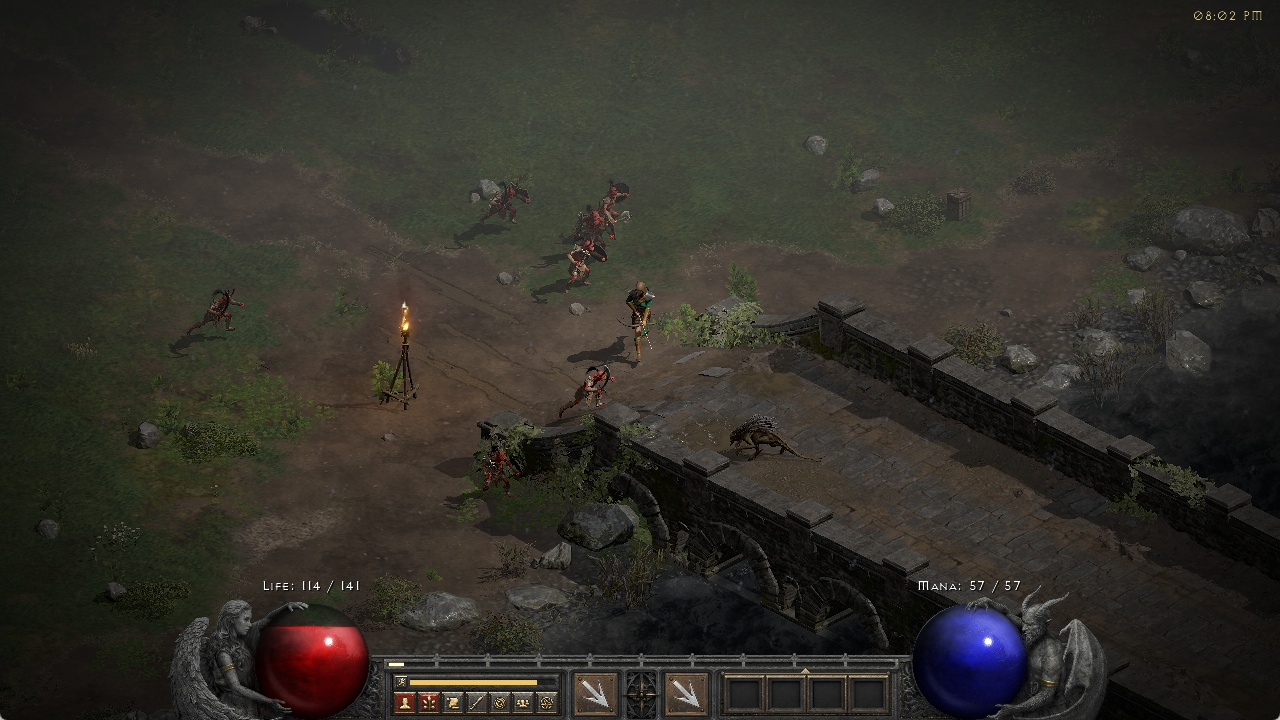fallen: (189, 285, 247, 336), (478, 445, 523, 501), (479, 178, 529, 228), (566, 362, 616, 405), (560, 243, 603, 283), (575, 208, 621, 243), (596, 173, 636, 205)
